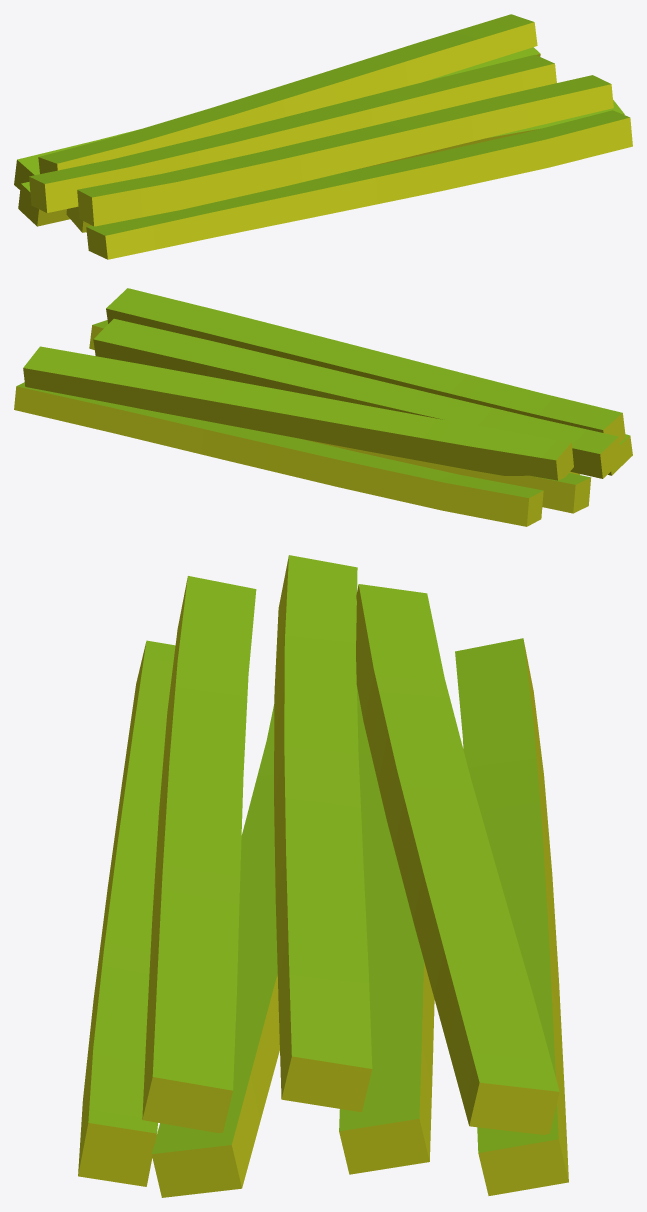
The model's file is FoodIngredient_SlicedCucumber.fbx.
The picture shows the model from 3 angles, top to bottom: view 1: azimuth 30°, elevation 25°; view 2: azimuth 150°, elevation 25°; view 3: azimuth 270°, elevation 25°; orthographic projection. The views are drawn at different scales.
Visible parts, largest first — view 1: FoodIngredient_SlicedCucumber; view 2: FoodIngredient_SlicedCucumber; view 3: FoodIngredient_SlicedCucumber.
Boxes of the visible parts, x1,y1,x2,y2 form: FoodIngredient_SlicedCucumber: [14, 14, 632, 259]; FoodIngredient_SlicedCucumber: [14, 288, 632, 526]; FoodIngredient_SlicedCucumber: [78, 555, 568, 1197].
Size of the model in its own units: 100 by 10.76 by 39.43.
